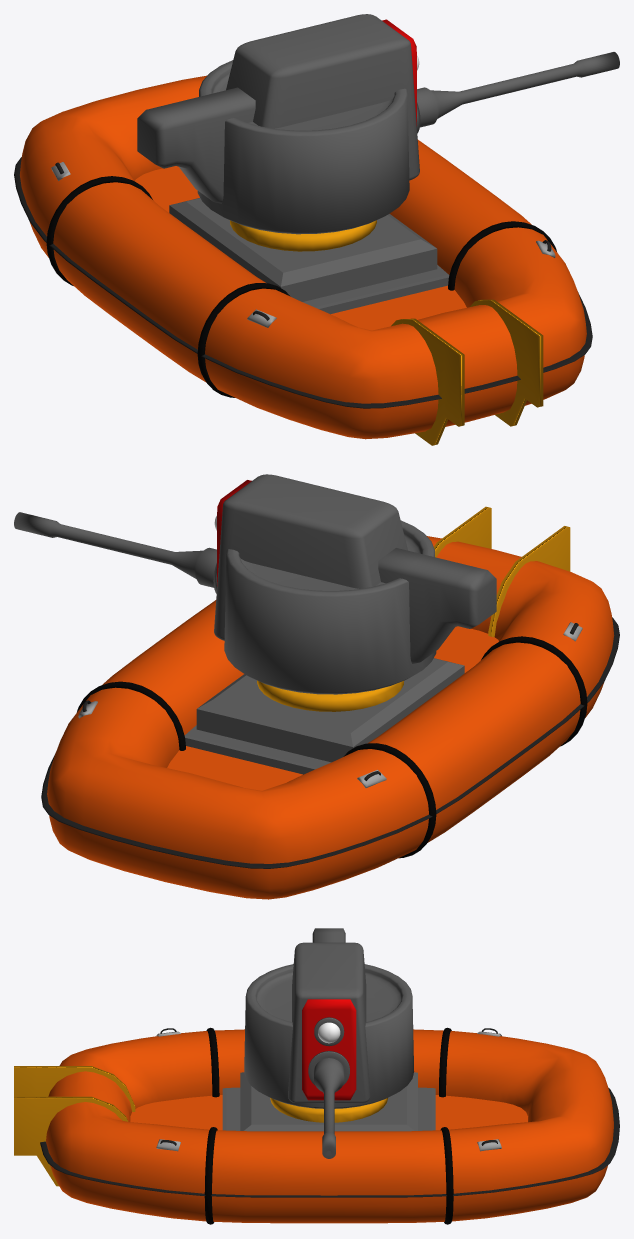
File: EnemyBoat2.fbx
3 views of the same model, one above another, from view 1: azimuth 30°, elevation 25°; view 2: azimuth 150°, elevation 25°; view 3: azimuth 270°, elevation 25° (orthographic). The views are drawn at different scales.
Visible parts, largest first — view 1: Cube.002; view 2: Cube.002; view 3: Cube.002.
Part boxes in pixels (bbox=[...]): Cube.002: bbox=[14, 14, 619, 445]; Cube.002: bbox=[14, 474, 619, 899]; Cube.002: bbox=[14, 928, 619, 1224].
Size of the model in its own units: 1868 by 954 by 2477.
